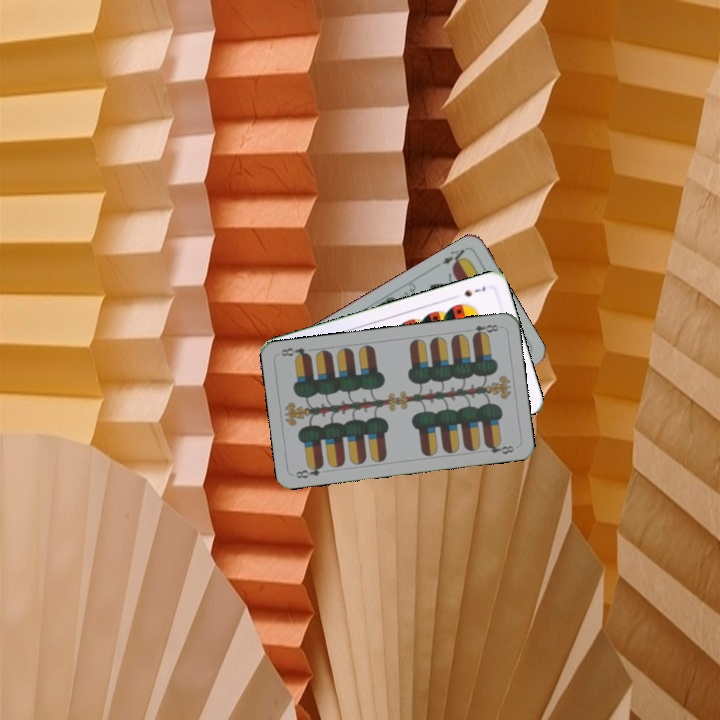E8: (292, 460, 326, 481), (469, 321, 501, 339)
EA: (432, 245, 469, 269)
S7: (460, 282, 488, 299)
